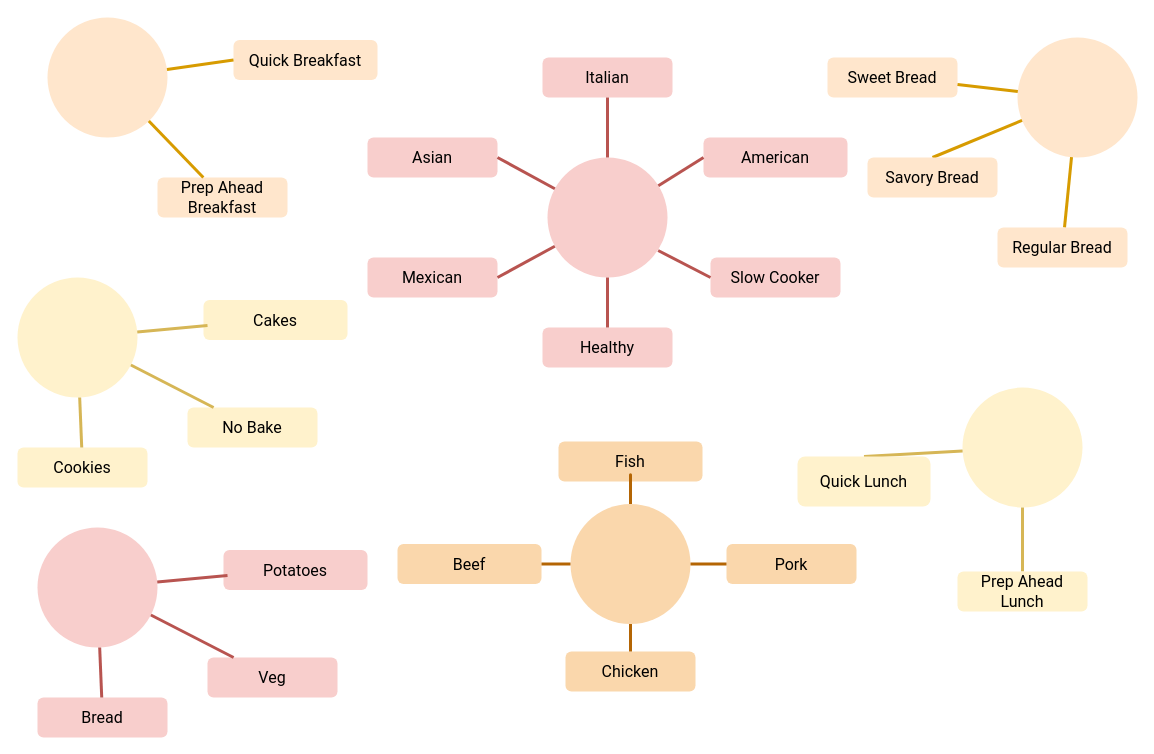
Image size: 1154x754. Some labels were removed from this diagram. Here are the shapes that lost their labels. From the top down, the centre of each, then its label:
At [107,77]: "Breakfast".
At [1077,97]: "Breads".
At [607,217]: "Dinner".
At [77,337]: "Dessert".
At [1022,447]: "Lunch".
At [630,564]: "Proteins".
At [97,587]: "Sides".
